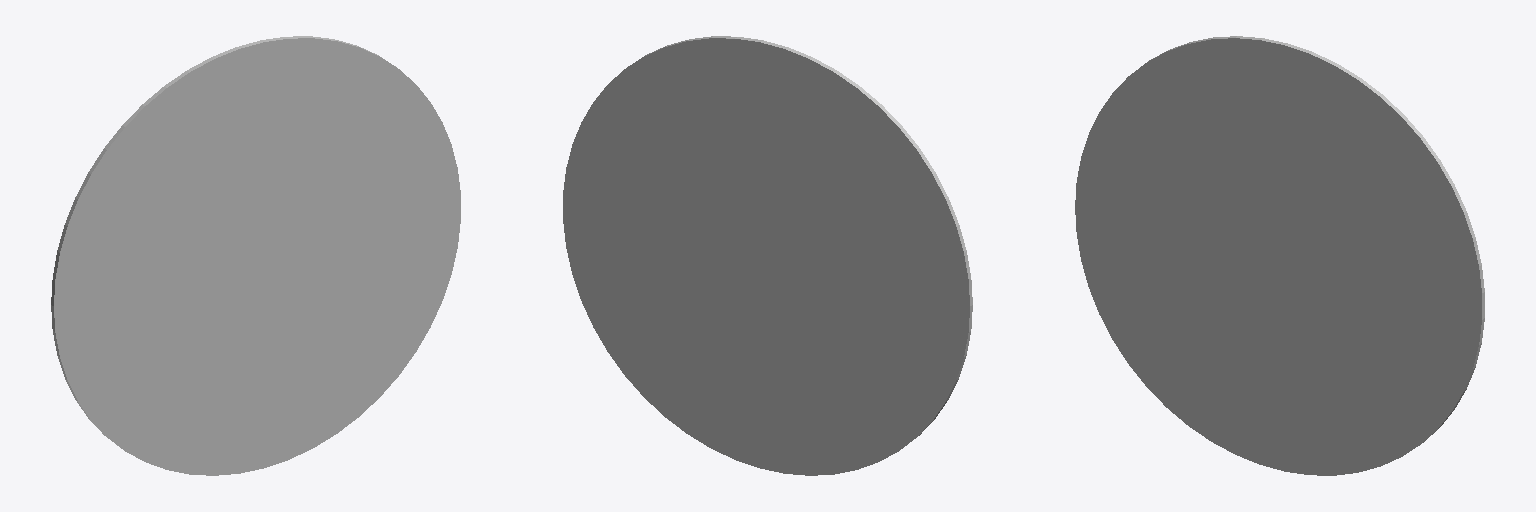
File: fixture_point.obj
The picture shows the model from 3 angles: view 1: azimuth 30°, elevation 25°; view 2: azimuth 150°, elevation 25°; view 3: azimuth 330°, elevation 25°; orthographic projection.
Visible parts, largest first — view 1: Body1; view 2: Body1; view 3: Body1.
Part boxes in pixels (x1,y1,x2,y2): Body1: (51,36,460,475); Body1: (563,36,972,475); Body1: (1075,36,1484,475).
Bounding box in the file's own units: 8.47 × 8.47 × 0.1.